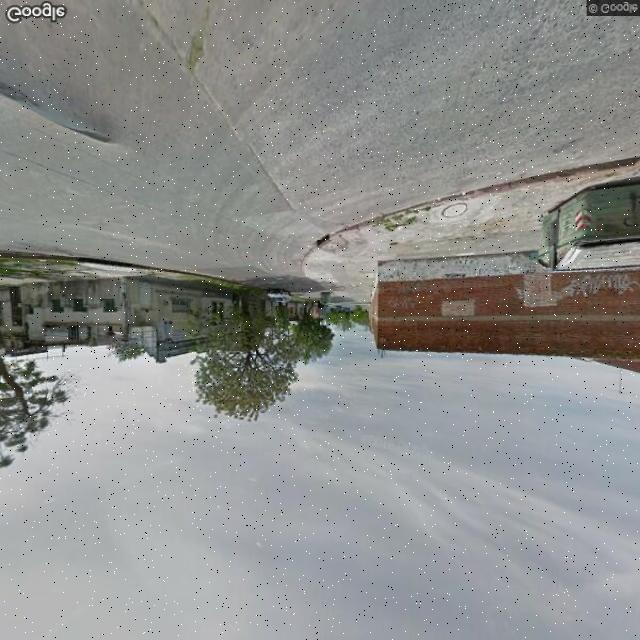garbage container: (529, 173, 640, 282)
